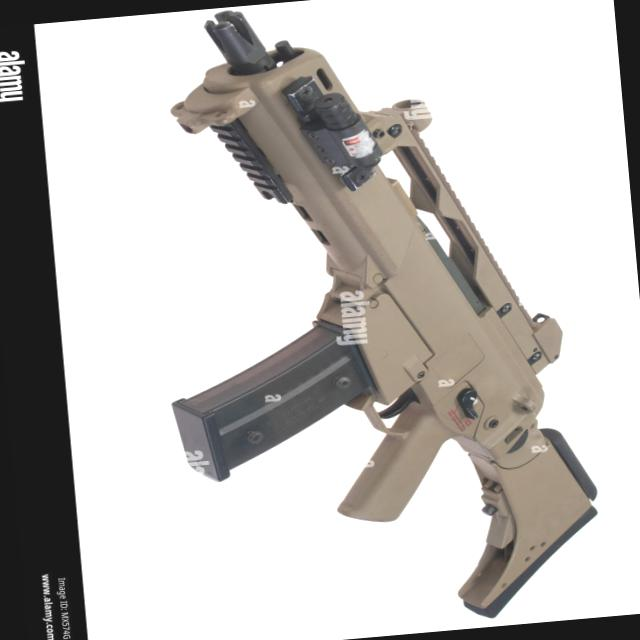long weapon: (131, 28, 572, 639)
